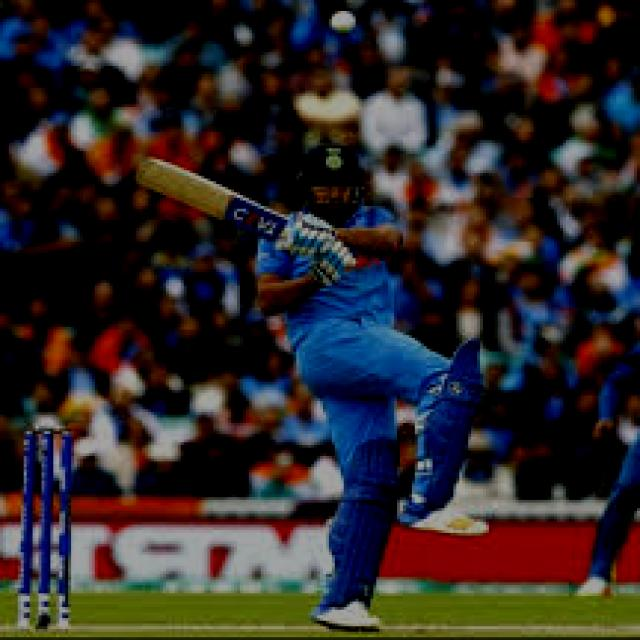toe: (121, 146, 171, 195)
